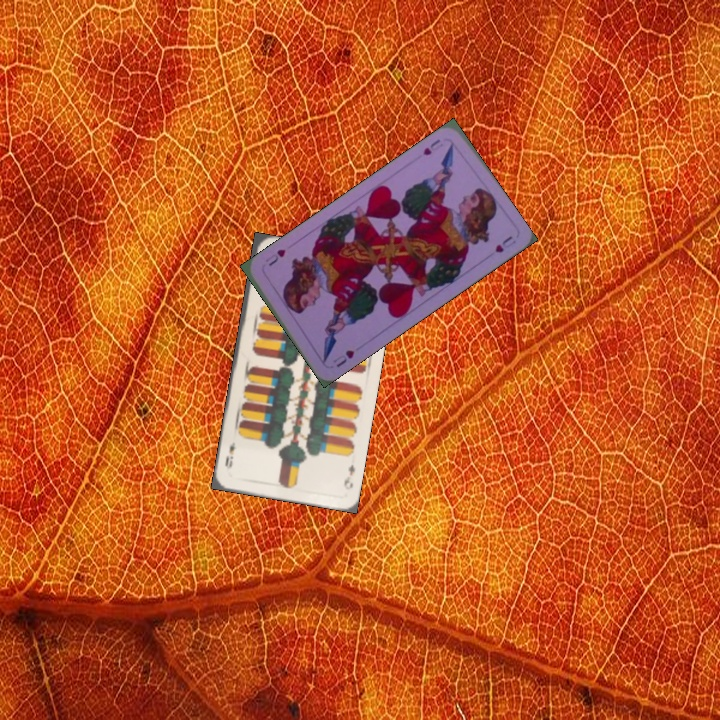E9: (340, 460, 358, 492)
HU: (329, 346, 357, 370), (419, 135, 446, 158)
